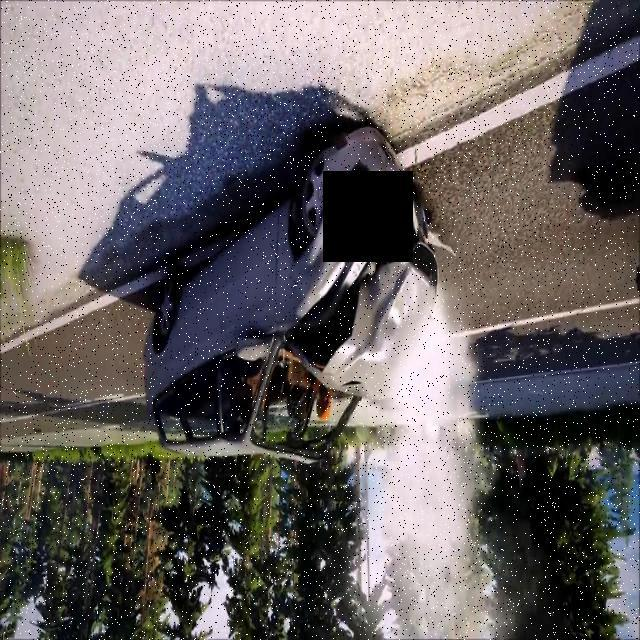severe: (141, 119, 443, 468)
